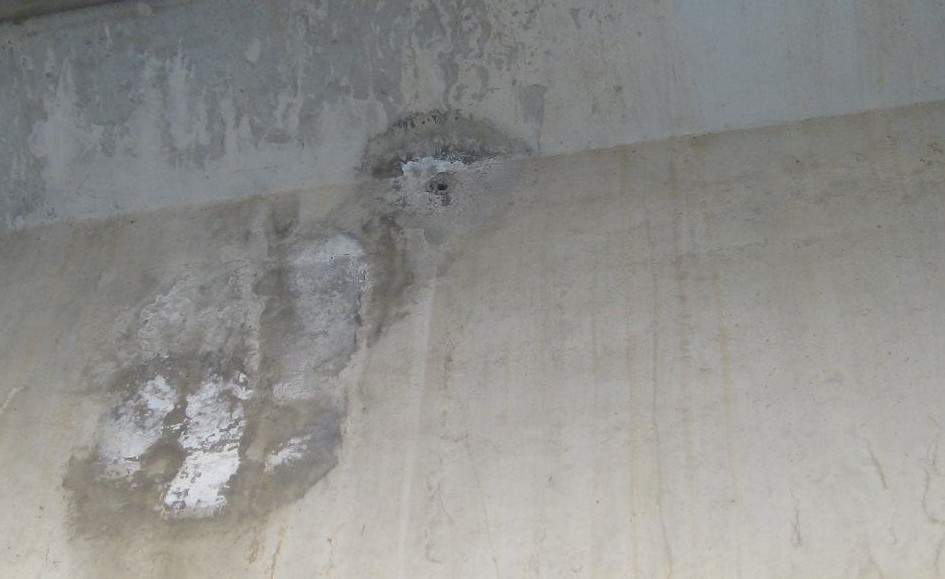Corrosion: (64, 111, 536, 579)
Spalling: (1, 1, 546, 237)
